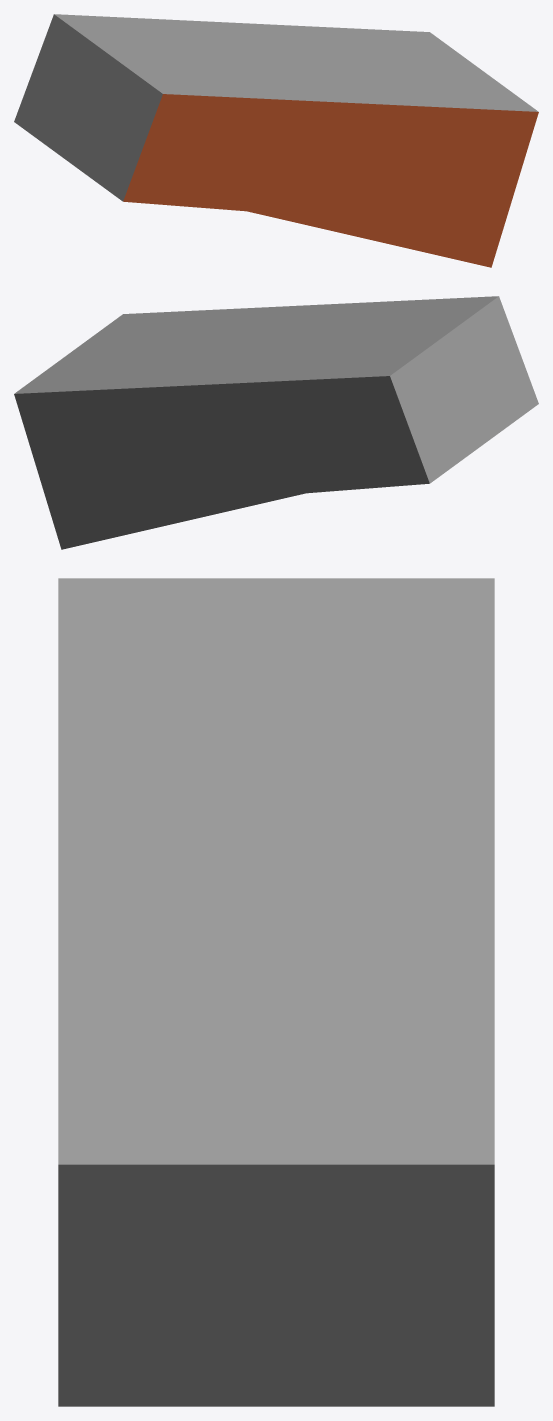
The model's file is construction_0205_assumed_A_Casa_h6m.obj.
3 views of the same model, one above another, from view 1: azimuth 30°, elevation 25°; view 2: azimuth 150°, elevation 25°; view 3: azimuth 270°, elevation 25° (orthographic). The views are drawn at different scales.
Visible parts, largest first — view 1: construction_0205_assumed_A_Casa; view 2: construction_0205_assumed_A_Casa; view 3: construction_0205_assumed_A_Casa.
Boxes of the visible parts, x1,y1,x2,y2 form: construction_0205_assumed_A_Casa: [14, 14, 538, 267]; construction_0205_assumed_A_Casa: [14, 296, 538, 549]; construction_0205_assumed_A_Casa: [58, 578, 494, 1406].
Size of the model in its own units: 13.21 by 7.71 by 6.
